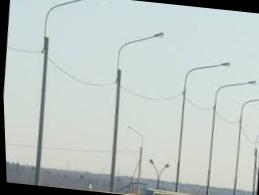Animal: (20, 0, 100, 190), (95, 14, 172, 195), (162, 42, 230, 195), (195, 72, 253, 195)
